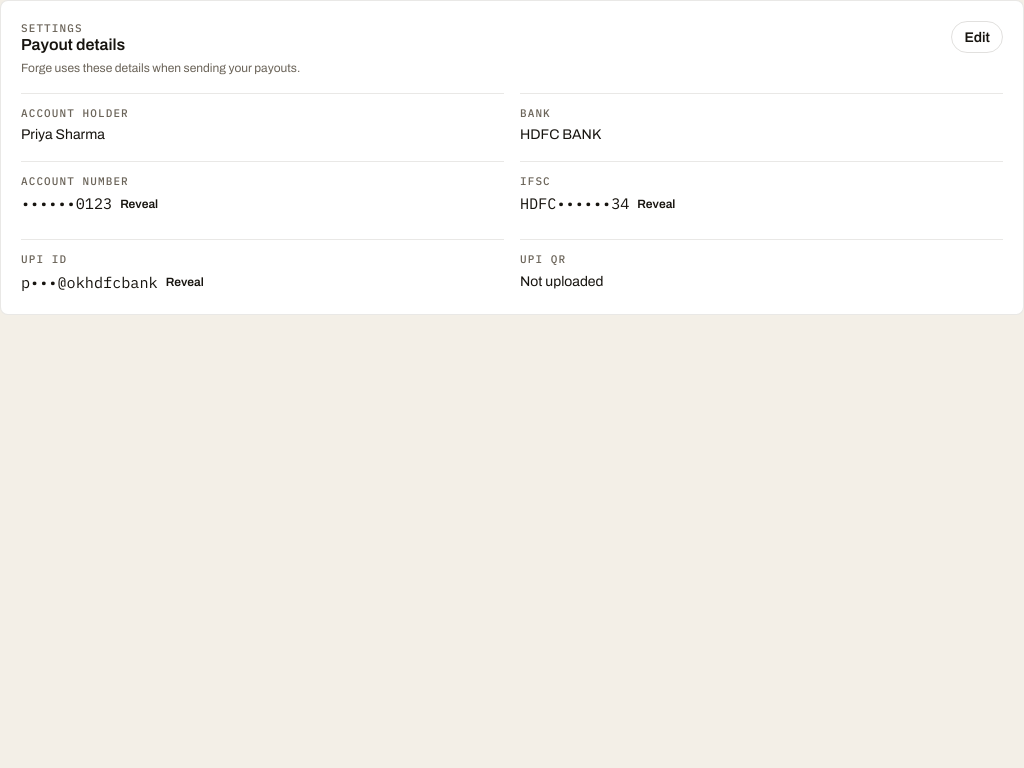
Test: PayoutSettingsPanel — editing › pre-fills the edit form with the existing payout details
Click the button "Edit".
click(977, 37)  # box [951,21,1003,53]
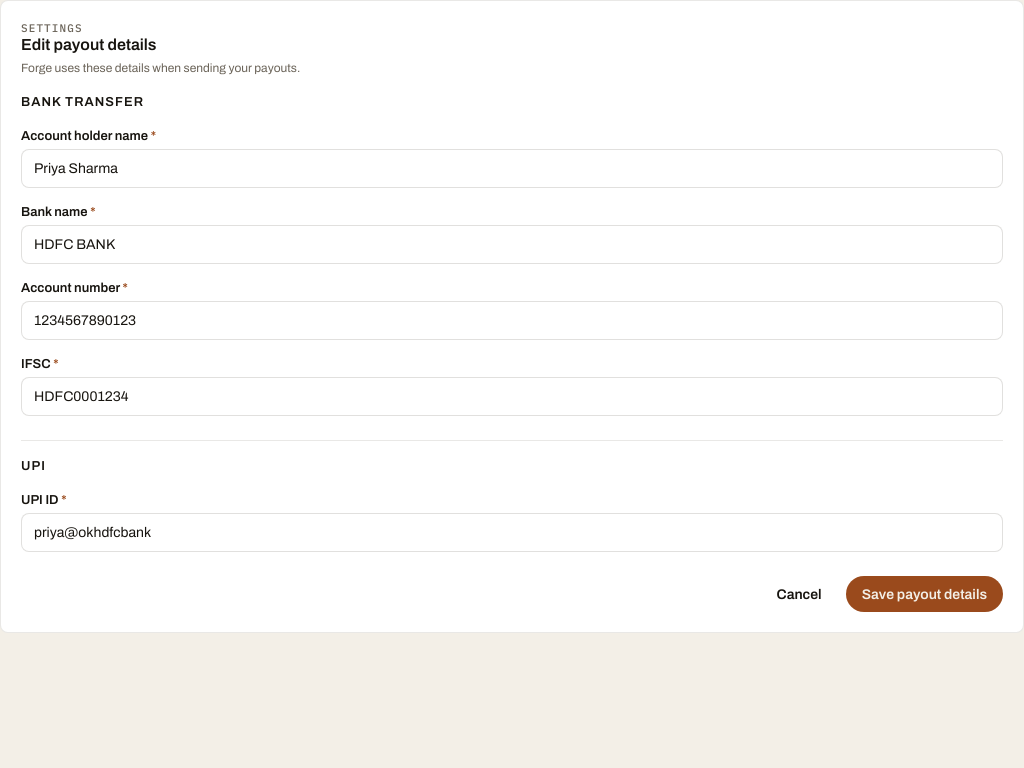
Result: the field labelled "Account holder name *" holds "Priya Sharma" at [21,149,1003,188]
Result: the dropdown labelled "Bank name *" holds "HDFC BANK" at [21,225,1003,264]
Result: the field labelled "Account number *" holds "1234567890123" at [21,301,1003,340]
